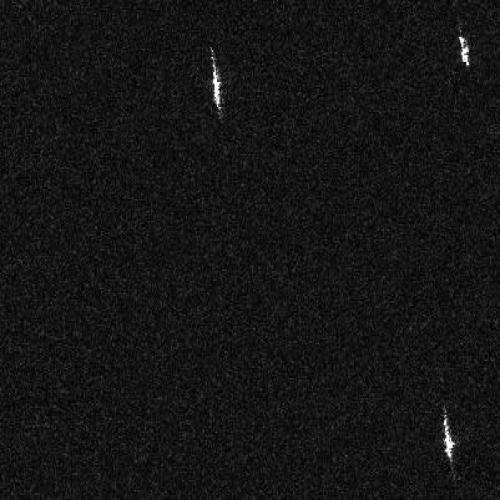ship: (209, 53, 223, 113), (442, 413, 456, 465), (458, 34, 471, 68)
